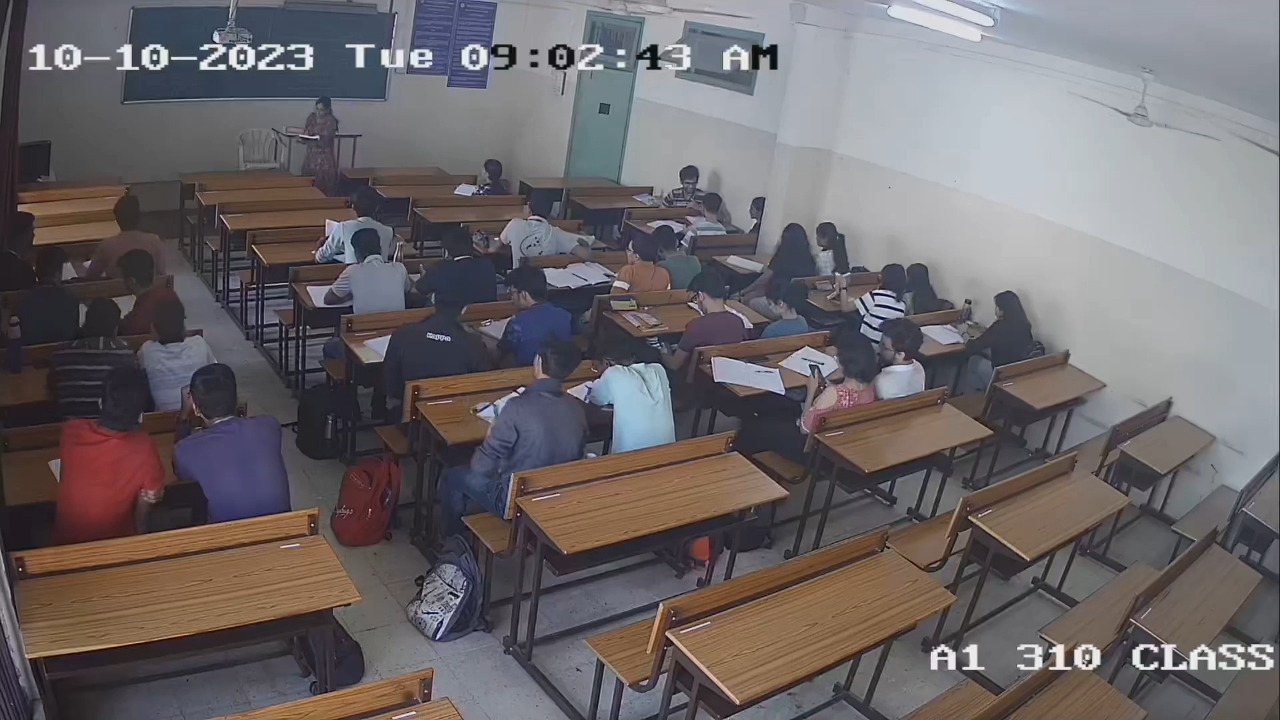cell-phones: (607, 294, 640, 313), (808, 361, 828, 389), (657, 337, 675, 359), (812, 279, 835, 292)
person: (792, 331, 877, 415), (668, 275, 746, 352), (852, 264, 906, 319)
